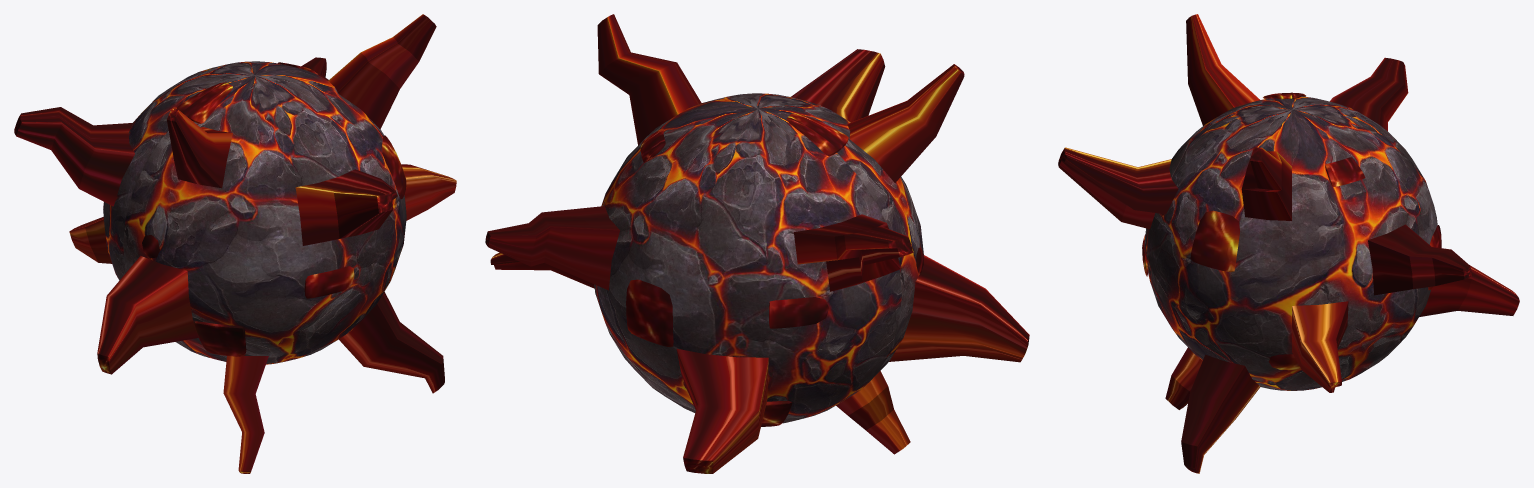
The model's file is mad_planet_with_materials.fbx.
3 views of the same model, side by side, from view 1: azimuth 30°, elevation 25°; view 2: azimuth 150°, elevation 25°; view 3: azimuth 270°, elevation 25° (orthographic). The views are drawn at different scales.
Parts seen in each view (by area): view 1: mad planet, MOUNTAINS.009, MOUNTAINS.001, MOUNTAINS, MOUNTAINS.004, MOUNTAINS.007, MOUNTAINS.002, MOUNTAINS.008, MOUNTAINS.005, CRUSTS.006, MOUNTAINS.006, CRUSTS.004 (+2 smaller); view 2: mad planet, MOUNTAINS.009, MOUNTAINS.006, MOUNTAINS.003, MOUNTAINS.004, MOUNTAINS.002, MOUNTAINS.001, MOUNTAINS, MOUNTAINS.008, CRUSTS.002, CRUSTS.001, CRUSTS.004 (+2 smaller); view 3: mad planet, MOUNTAINS, MOUNTAINS.007, MOUNTAINS.003, MOUNTAINS.005, MOUNTAINS.002, MOUNTAINS.004, MOUNTAINS.006, MOUNTAINS.001, CRUSTS.009, MOUNTAINS.008, CRUSTS.003.
Boxes of the visible parts, box(x1,y1,x2,y2) form: mad planet: box(103, 61, 406, 364); MOUNTAINS.009: box(97, 255, 198, 374); MOUNTAINS.001: box(14, 107, 134, 206); MOUNTAINS: box(295, 169, 397, 245); MOUNTAINS.004: box(328, 14, 436, 129); MOUNTAINS.007: box(339, 292, 444, 393); MOUNTAINS.002: box(167, 108, 232, 188); MOUNTAINS.008: box(223, 356, 268, 473); MOUNTAINS.005: box(401, 164, 456, 220); CRUSTS.006: box(193, 321, 246, 356); MOUNTAINS.006: box(69, 217, 111, 263); CRUSTS.004: box(176, 82, 232, 123); mad planet: box(594, 93, 923, 423); MOUNTAINS.009: box(889, 255, 1029, 362); MOUNTAINS.006: box(676, 348, 768, 473); MOUNTAINS.003: box(485, 206, 619, 290); MOUNTAINS.004: box(597, 14, 701, 145); MOUNTAINS.002: box(847, 64, 964, 182); MOUNTAINS.001: box(794, 214, 913, 291); MOUNTAINS: box(791, 49, 885, 122); MOUNTAINS.008: box(836, 371, 910, 454); CRUSTS.002: box(626, 279, 673, 346); CRUSTS.001: box(769, 297, 829, 328); CRUSTS.004: box(786, 113, 848, 156); mad planet: box(1144, 96, 1437, 390); MOUNTAINS: box(1058, 147, 1178, 229); MOUNTAINS.007: box(1181, 354, 1260, 473); MOUNTAINS.003: box(1368, 224, 1471, 295); MOUNTAINS.005: box(1292, 301, 1348, 392); MOUNTAINS.002: box(1186, 14, 1259, 125); MOUNTAINS.004: box(1241, 147, 1291, 220); MOUNTAINS.006: box(1419, 265, 1519, 316); MOUNTAINS.001: box(1330, 57, 1408, 131); CRUSTS.009: box(1190, 210, 1239, 272); MOUNTAINS.008: box(1165, 347, 1202, 409); CRUSTS.003: box(1325, 157, 1365, 186).
Size of the model in its own units: 1407 by 1194 by 1370.
2 materials, 2 textured.
